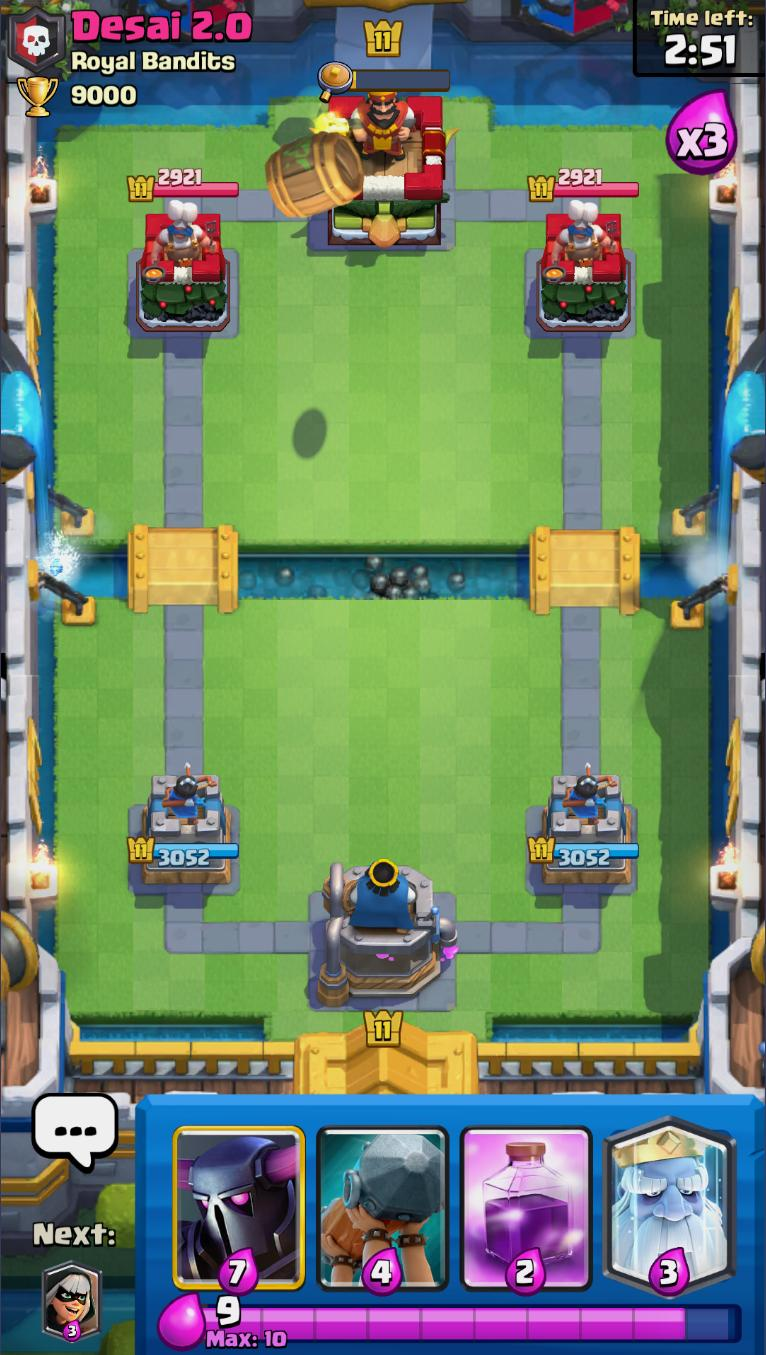BanditNext: (41, 1264, 103, 1343)
BattleRamDeck: (311, 1095, 455, 1296)
Chef: (150, 198, 220, 267), (551, 198, 618, 266)
Elixir: (203, 1295, 744, 1350)
EnemyTower: (533, 208, 631, 331), (133, 210, 229, 335)
GoblinBarrel: (265, 132, 364, 216)
KingTower: (308, 82, 456, 248)
MyKingTower: (319, 856, 458, 1009)
MyPrincessTower: (125, 769, 238, 887)
MyPrincessTowerBrocken: (524, 786, 639, 893)
MyPrincessTowerHP: (125, 836, 238, 868), (527, 837, 640, 867)
PekkaDeck: (167, 1095, 310, 1296)
RageDeck: (599, 1094, 744, 1296), (456, 1094, 598, 1295)
Skeleton: (546, 537, 583, 588)
TowerPrincessHP: (126, 168, 239, 203), (526, 169, 639, 203)
